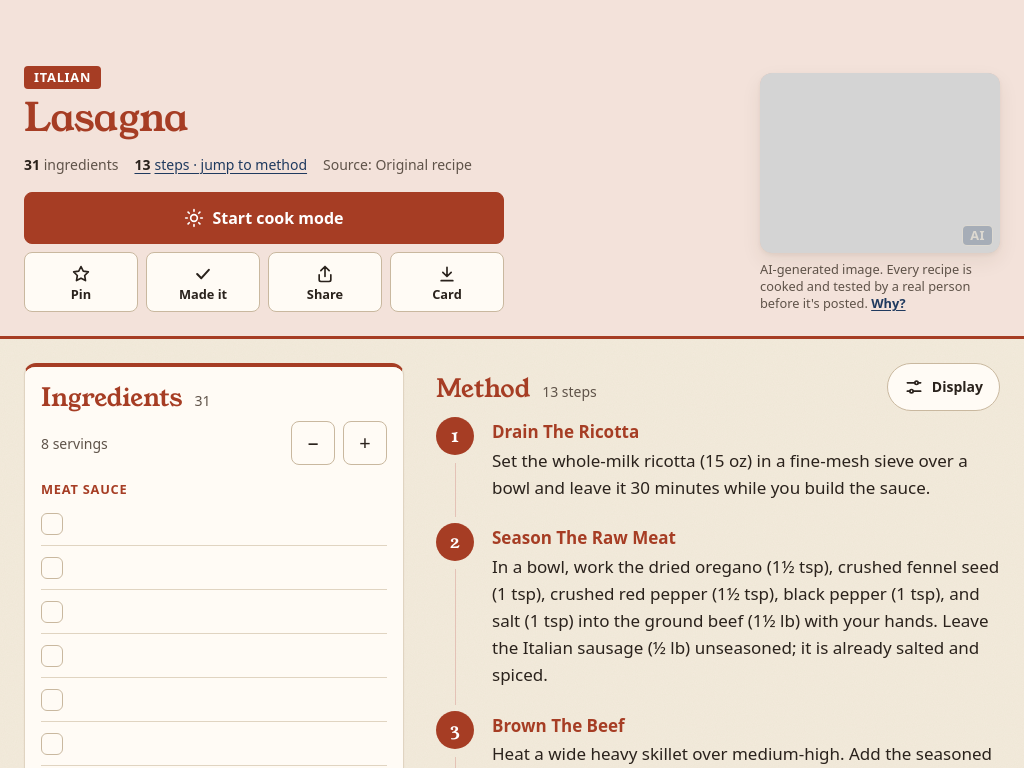
Test case: RecipeView display settings › hides the Why notes row on a recipe with no why, and keeps Amounts in steps
What coordinates should you click on to do the following:
click the button "Display"
I would click on:
 (943, 387)
Its box is [887,363,1000,411].
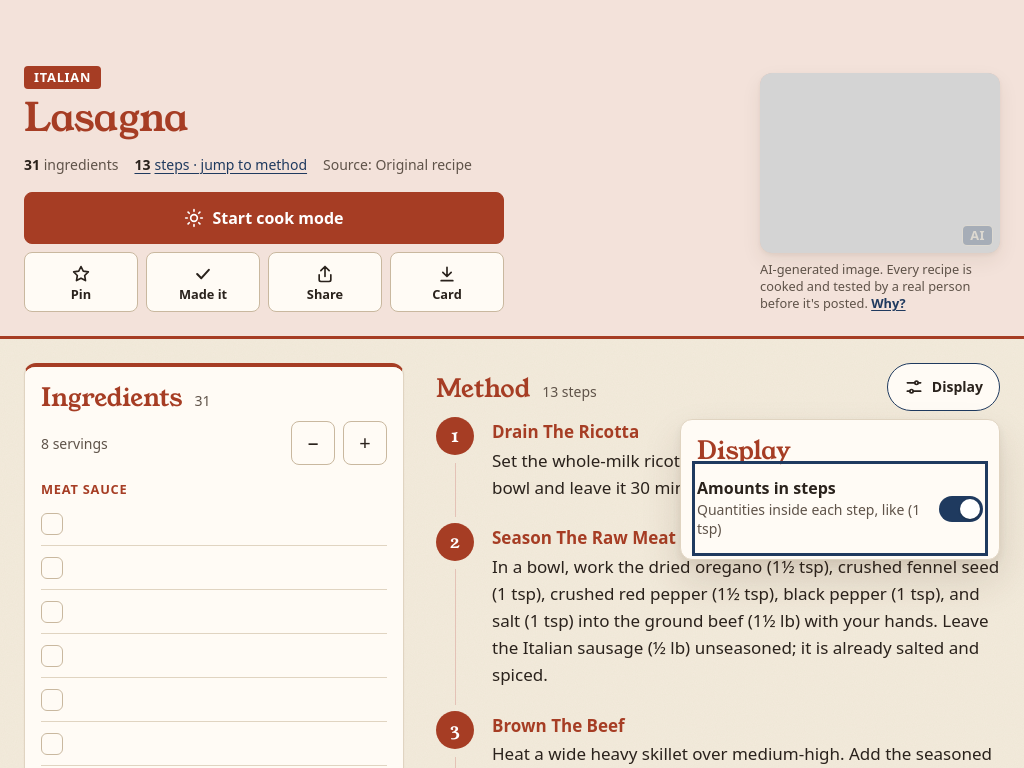
expect the switch labelled "Amounts in steps" is shown: met, box [697,466,983,551]
